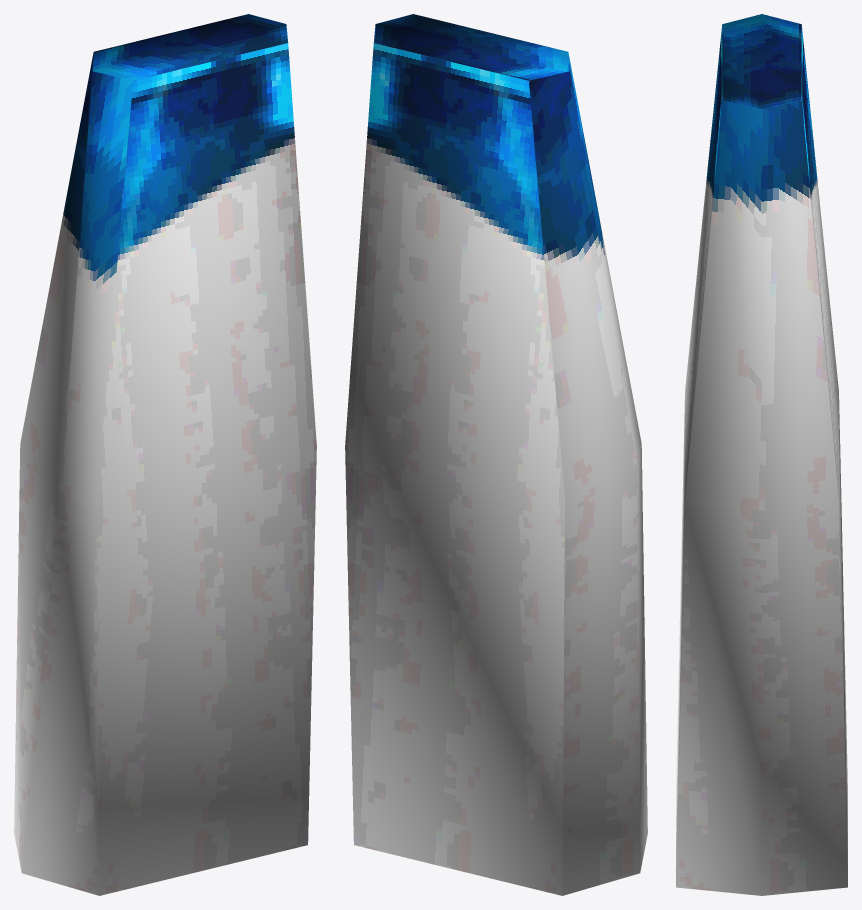
The model's file is shampoobottle.glb.
The picture shows the model from 3 angles, left to right: view 1: azimuth 30°, elevation 25°; view 2: azimuth 150°, elevation 25°; view 3: azimuth 270°, elevation 25°; orthographic projection.
Parts seen in each view (by area): view 1: ShampooBottle; view 2: ShampooBottle; view 3: ShampooBottle.
Part boxes in pixels (x1=…): ShampooBottle: x1=14, y1=14, x2=316, y2=895; ShampooBottle: x1=345, y1=14, x2=647, y2=895; ShampooBottle: x1=676, y1=14, x2=847, y2=895.
Bounding box in the file's own units: 0.3269 × 0.8834 × 0.1743.
Materials: 1 (1 with a texture image).
